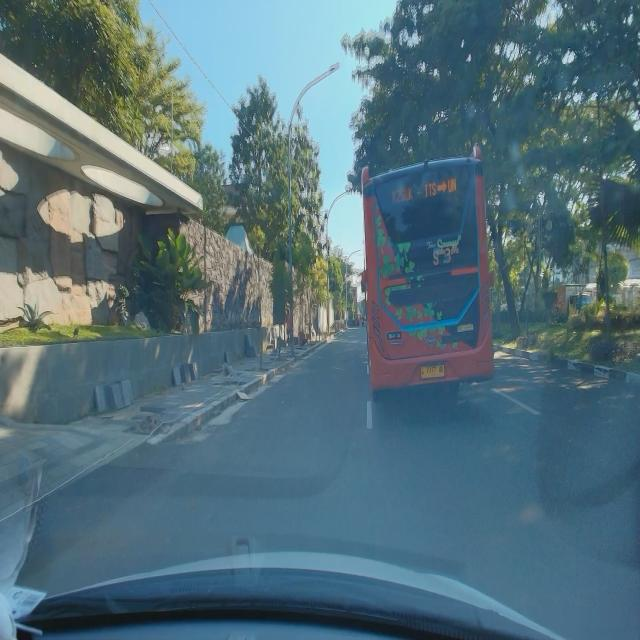bus: (360, 143, 495, 401)
license-plate: (420, 364, 446, 380)
